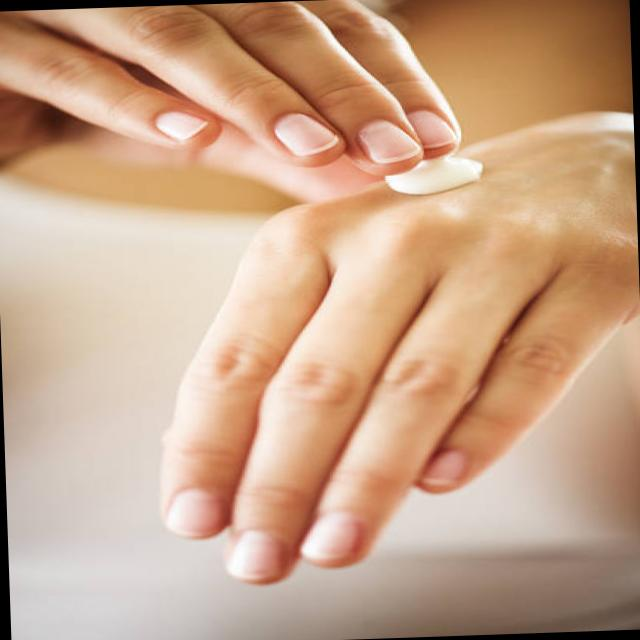Nail: (225, 531, 287, 583), (164, 490, 227, 539), (300, 513, 361, 561), (359, 119, 422, 163), (275, 113, 340, 155), (407, 108, 459, 158), (419, 450, 471, 487), (155, 110, 207, 139)
